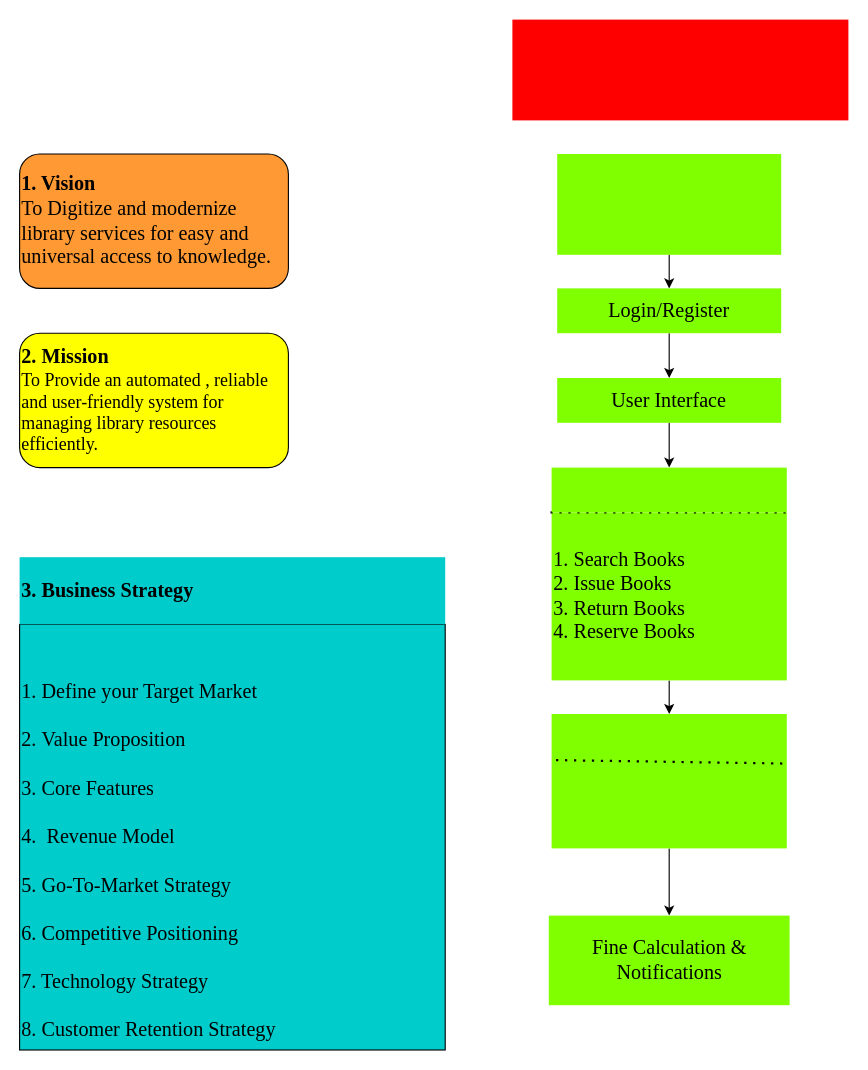
Some shapes in this 868 by 1070 pixel diagram are drawn without their labels. The shapes that lost their labels are listed below. From the top down, each one's box as (x1, y1, x2, y2) in pixels, then its label:
(512, 19, 848, 120): 4. Operations Block Diagram
(557, 153, 781, 254): User (System/Admin)
(551, 467, 786, 512): Library Management Core
(551, 713, 786, 848): Database System 1. Book Records 2. User Records 3. Transactions
